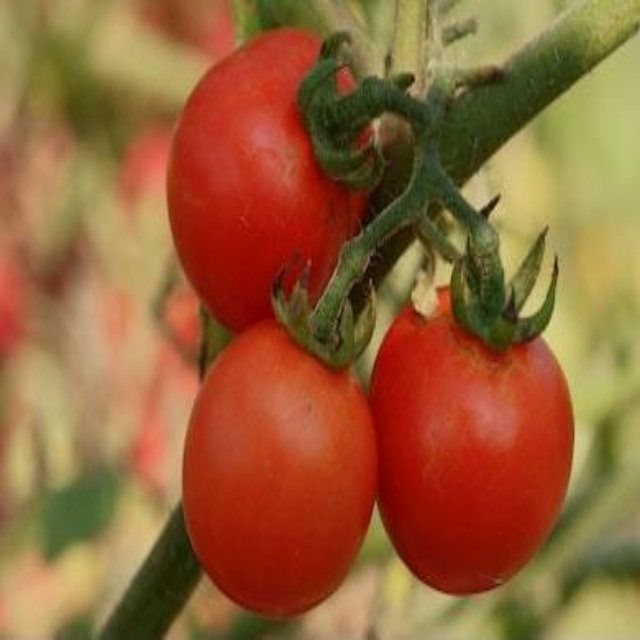tomato: (167, 38, 381, 323), (373, 305, 577, 599), (190, 336, 377, 609)
